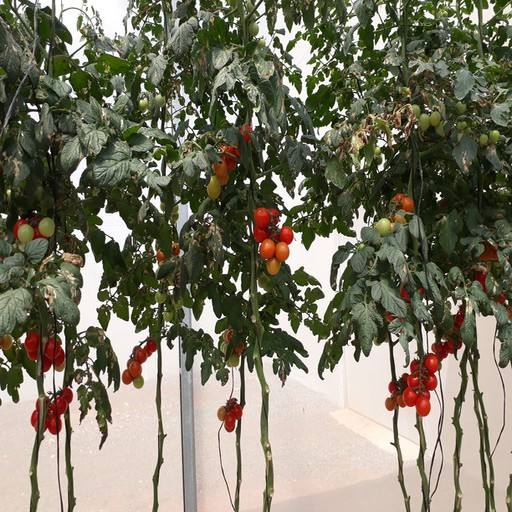green tomato bunch: (454, 103, 500, 145), (410, 103, 447, 135), (154, 288, 183, 323), (121, 92, 167, 111), (220, 329, 242, 367), (159, 197, 180, 227)
mixed tomato bunch: (373, 193, 413, 238), (15, 214, 56, 251)
red tomato bunch: (209, 124, 251, 197), (255, 207, 294, 275), (432, 302, 468, 362), (404, 354, 438, 416), (32, 387, 74, 436), (122, 336, 159, 390), (386, 280, 424, 332), (25, 331, 64, 373), (474, 262, 511, 305), (385, 371, 411, 411), (217, 398, 241, 432)
